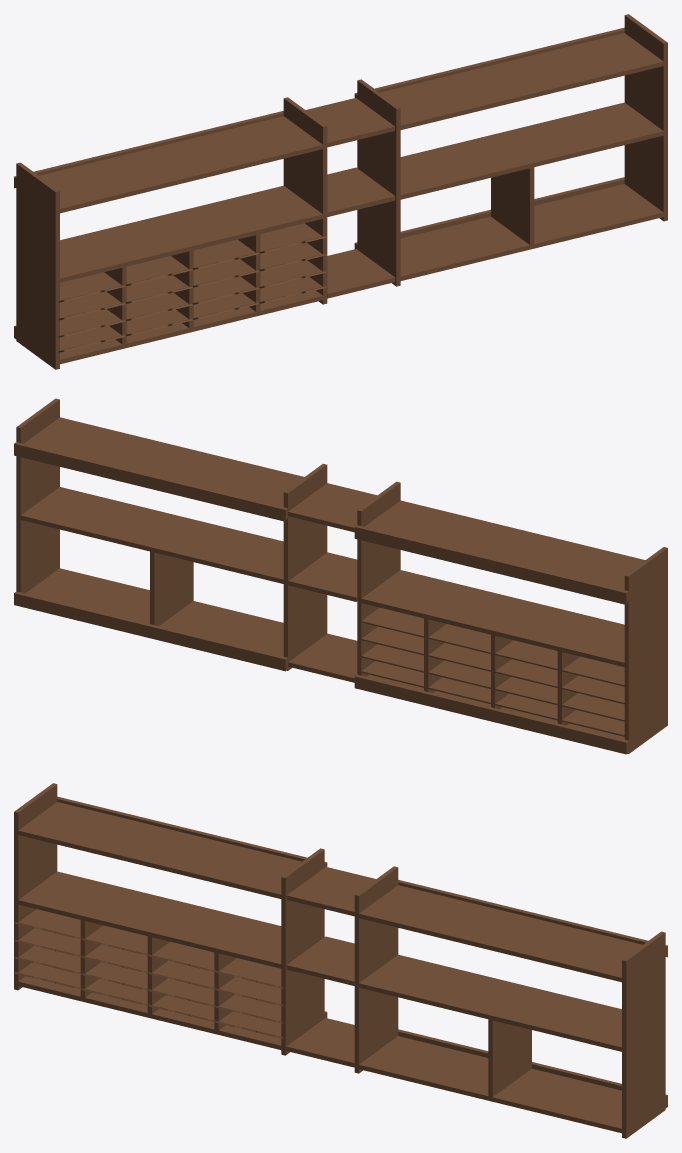
Rendered from wall_mounted_book_case_assembly.glb.
3 renders of one model, top to bottom at view 1: azimuth 30°, elevation 25°; view 2: azimuth 150°, elevation 25°; view 3: azimuth 330°, elevation 25°, orthographic.
Parts seen in each view (by area): view 1: wall_mounted_book_case_assembly; view 2: wall_mounted_book_case_assembly; view 3: wall_mounted_book_case_assembly.
Boxes of the visible parts, <box> form: wall_mounted_book_case_assembly: <box>14,14,667,369</box>; wall_mounted_book_case_assembly: <box>14,398,667,754</box>; wall_mounted_book_case_assembly: <box>14,783,667,1138</box>.
Size of the model in its own units: 108 by 30 by 14.09.
